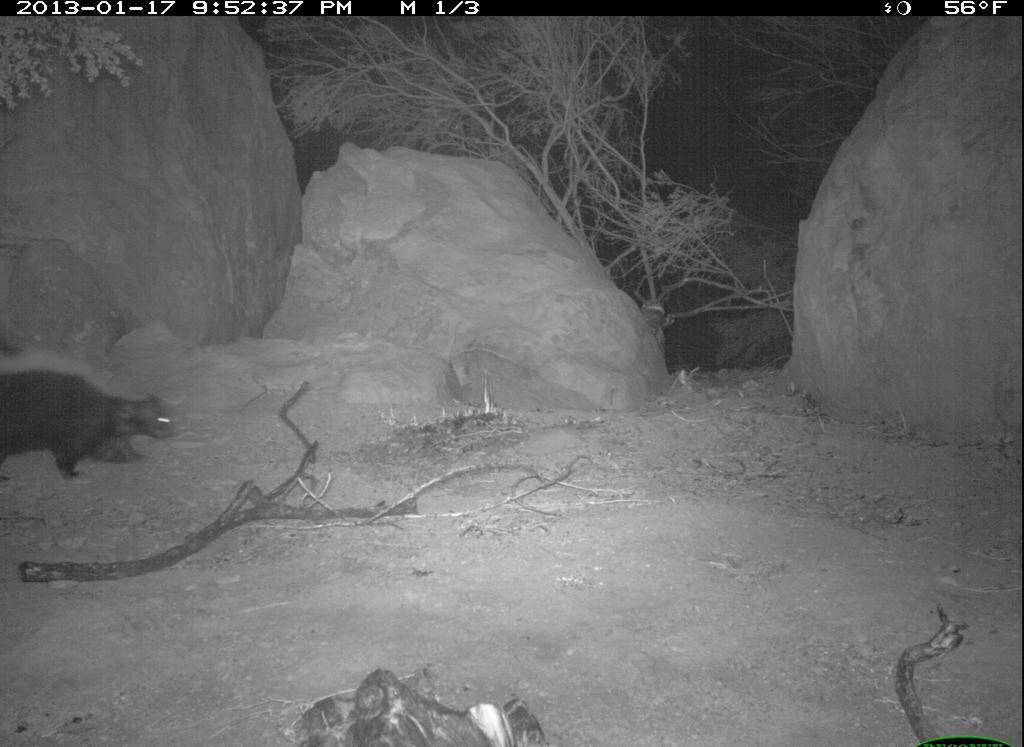skunk: (3, 358, 190, 491)
